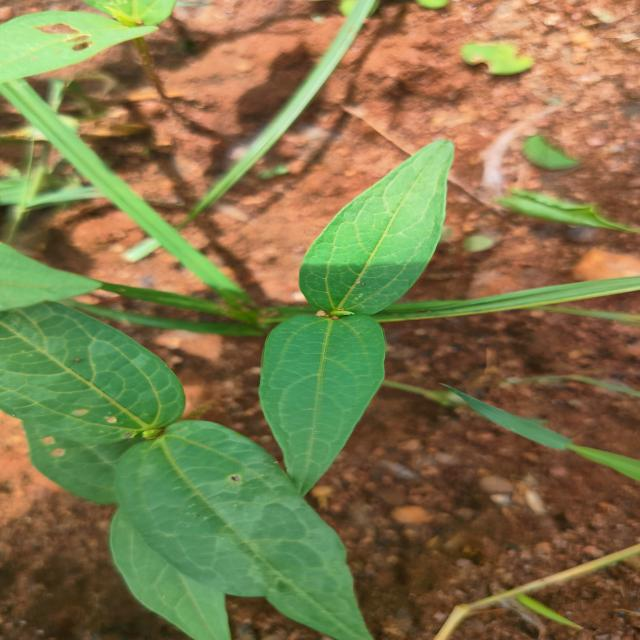Black gram_healthy: (111, 417, 381, 640), (0, 287, 193, 444), (292, 138, 453, 320), (259, 305, 381, 491)
